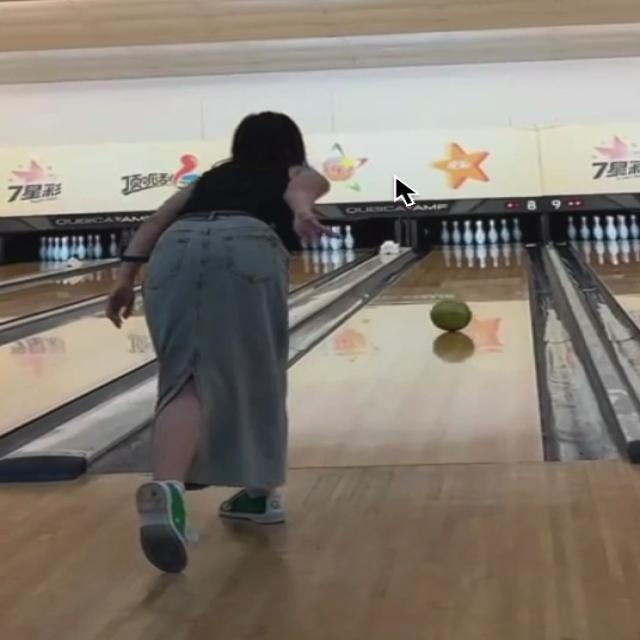alley: (289, 245, 540, 468)
balls: (430, 299, 472, 332)
bottle: (441, 218, 521, 245)
